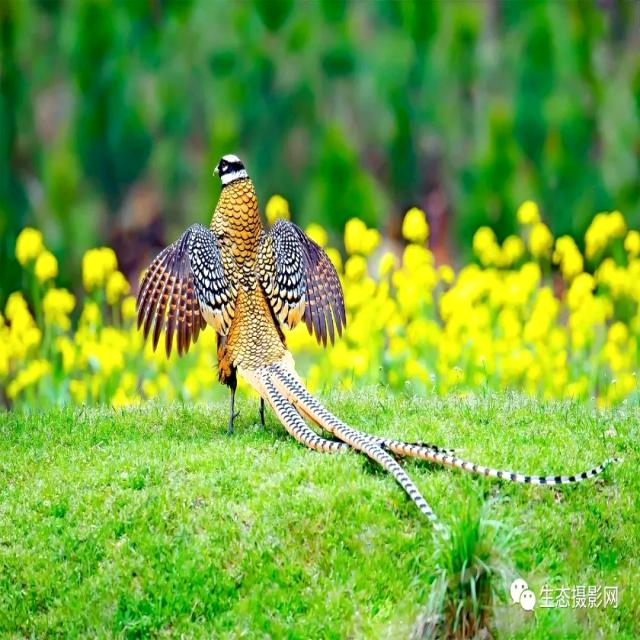Reeves-s Pheasant: (237, 351, 608, 520)
